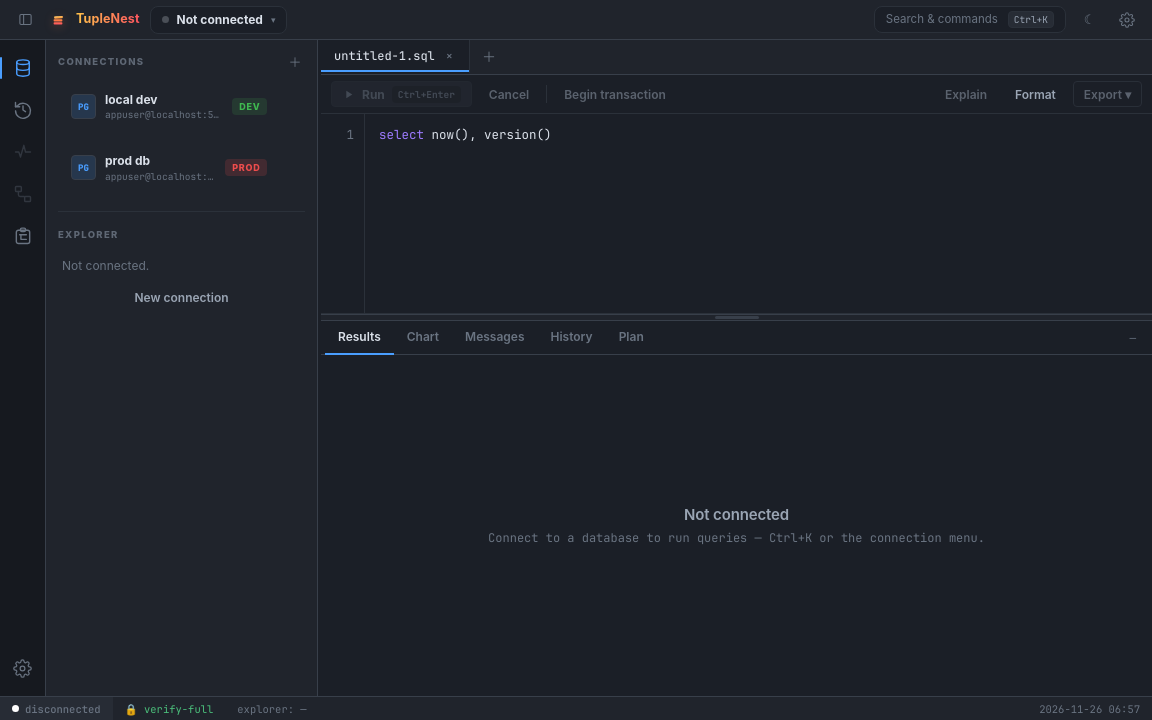
Scenario: App — saving a profile › opens a blank editor for a new connection
The width and height of the screenshot is (1152, 720).
Check: the text "local dev" is shown, box [105,91,158,108]
Type keys "{Meta>}k{/Meta}"
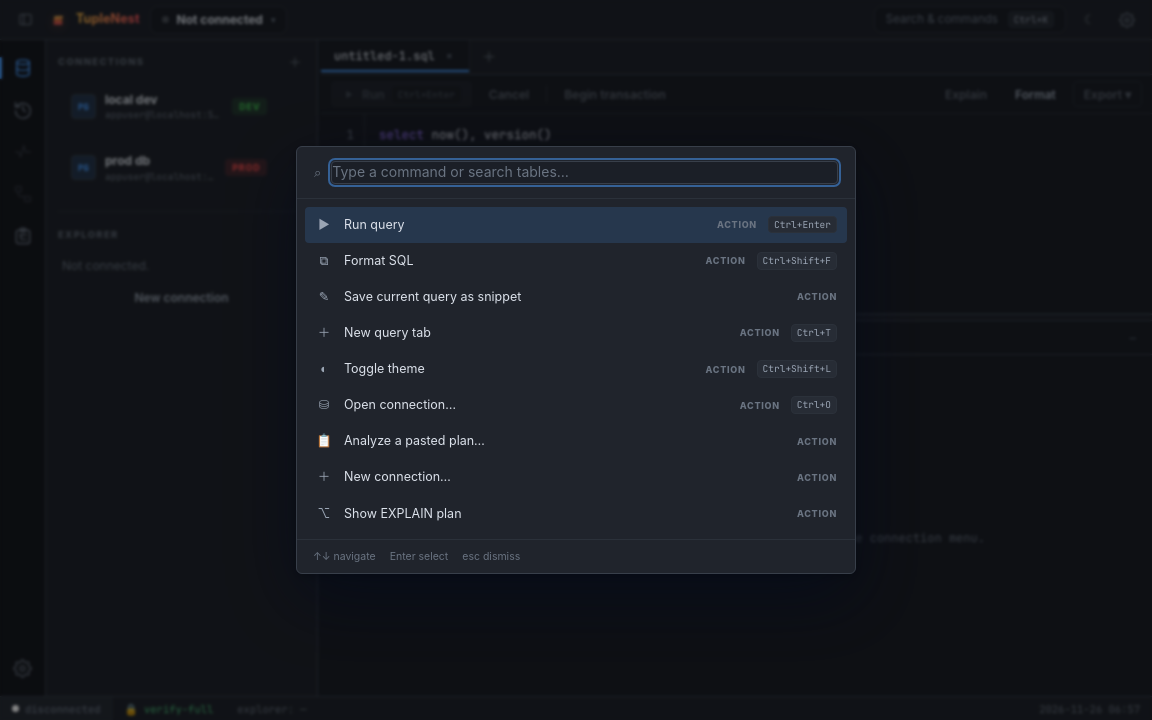
Type "New connection" into the field with placeholder "Type a command or search tables…". click: coordinates (585, 172)
box: [331,161,838,184]
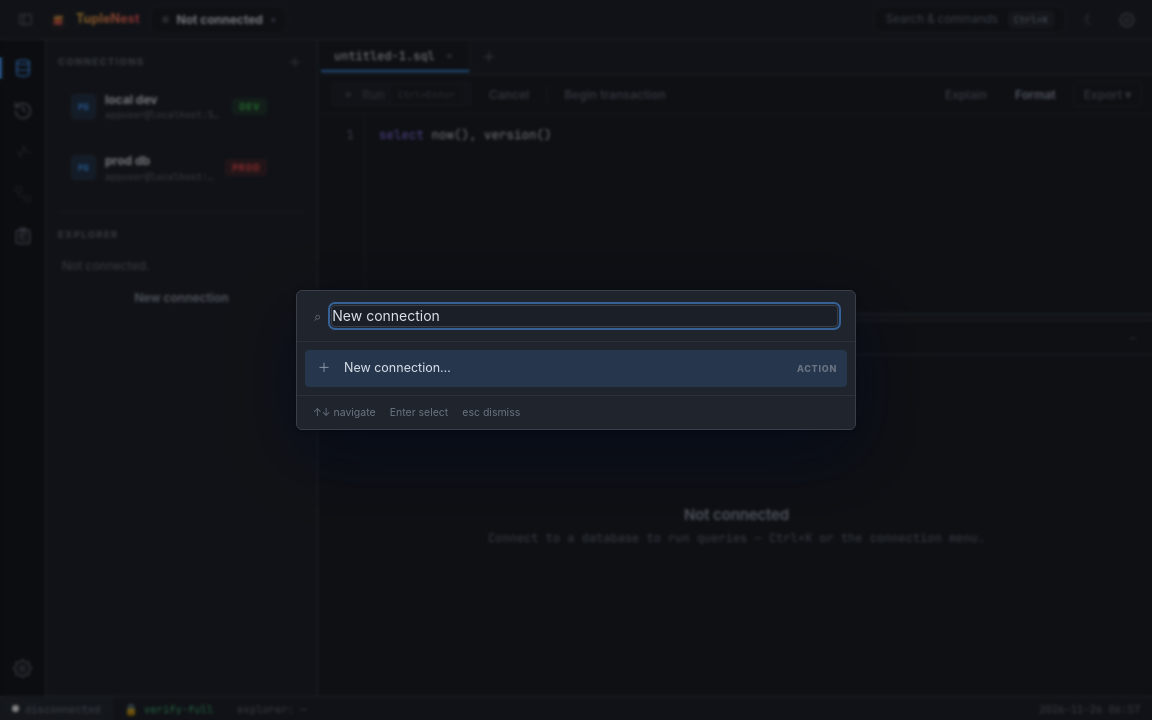
Press Enter
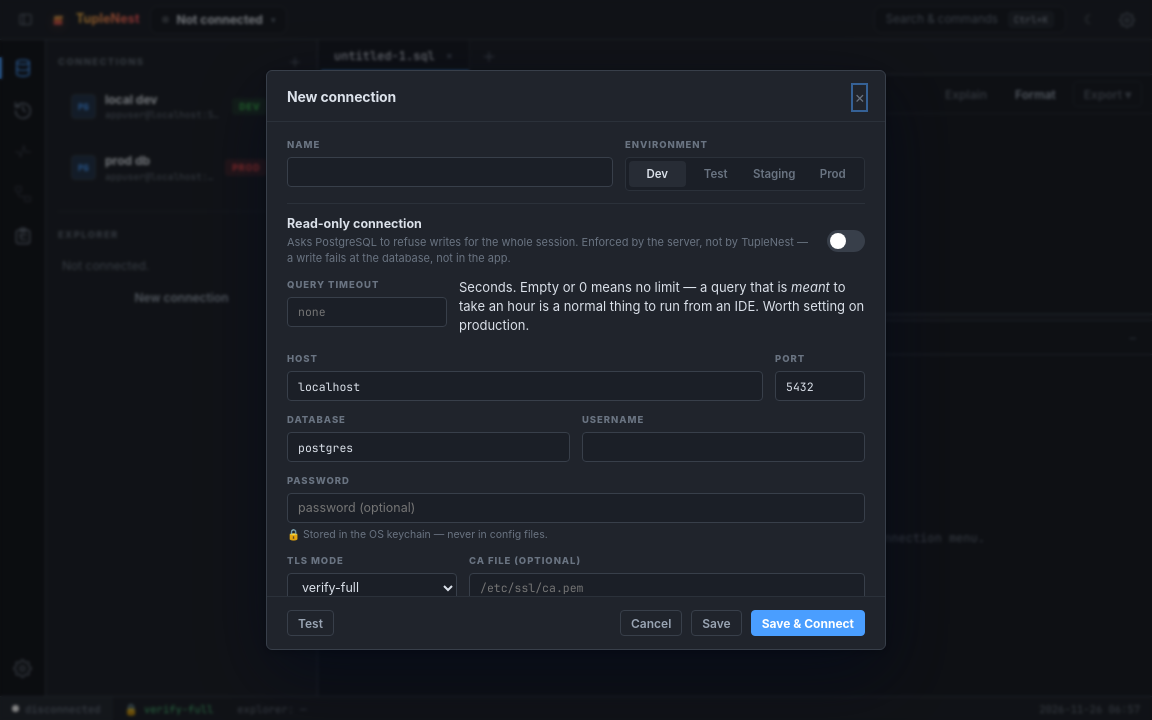
Check: the password field with placeholder "password (optional)" is empty, box [287,493,865,523]
Check: the button "Save & Connect" is shown, box [751,610,865,636]
